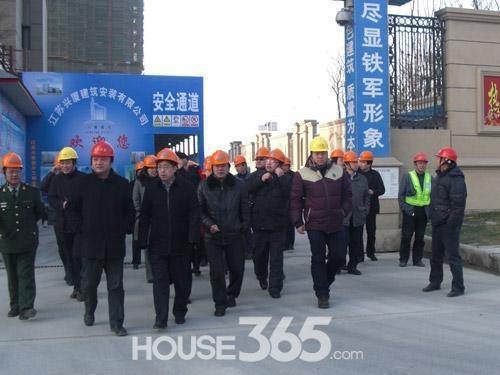helmet: (88, 139, 116, 176), (1, 149, 25, 188), (153, 148, 180, 182), (305, 135, 331, 170), (266, 143, 290, 177), (433, 145, 458, 176), (55, 146, 79, 177), (210, 148, 232, 180), (341, 149, 360, 174), (359, 147, 377, 172), (142, 153, 158, 181), (412, 149, 429, 175), (232, 153, 248, 176), (329, 148, 343, 173), (253, 146, 267, 169)
